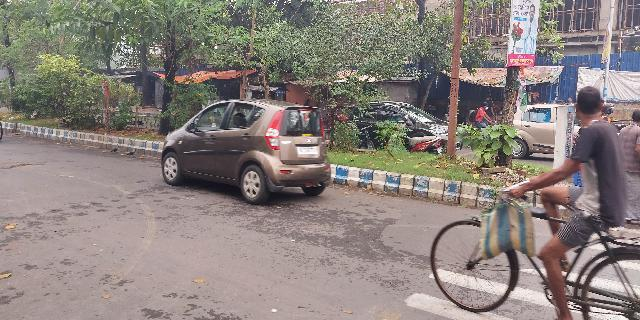Car: (162, 103, 338, 197)
Cycle: (429, 78, 640, 319)
